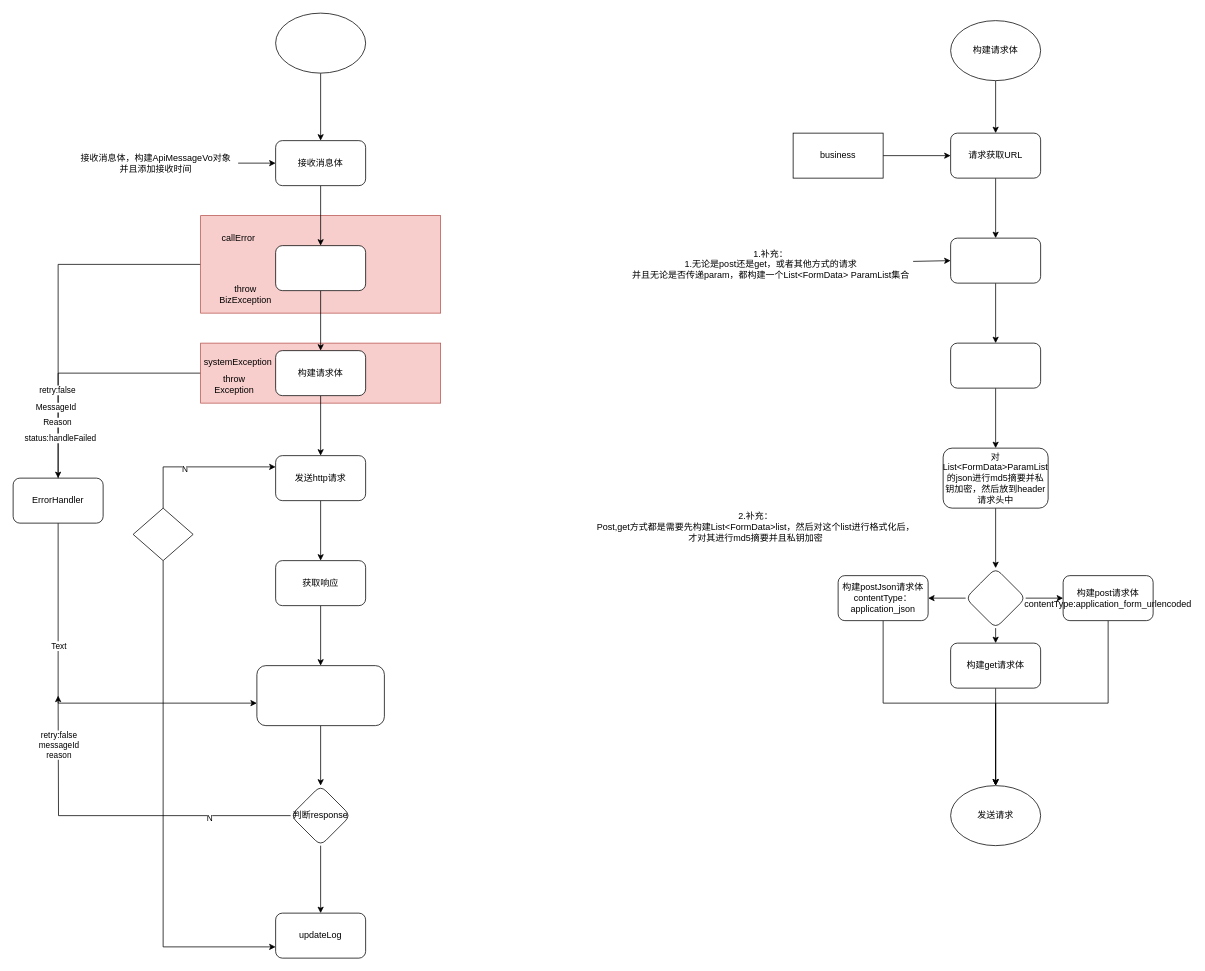
Image size: 1205x971. Some labels were removed from this diagram. Here are the shapes that lost their labels. From the top down, the centre of each, then its label:
At [320,42]: "异步消息日志记录流程".
At [320,268]: "根据customerId和ApiId远程调用Business服务，获得URL等内容".
At [995,260]: "构建parameter，拼接到URL中".
At [995,365]: "加入timestamp，拼接到url中".
At [162,534]: "重试次数".
At [995,597]: "判断请求方式".
At [320,695]: "savelog".
